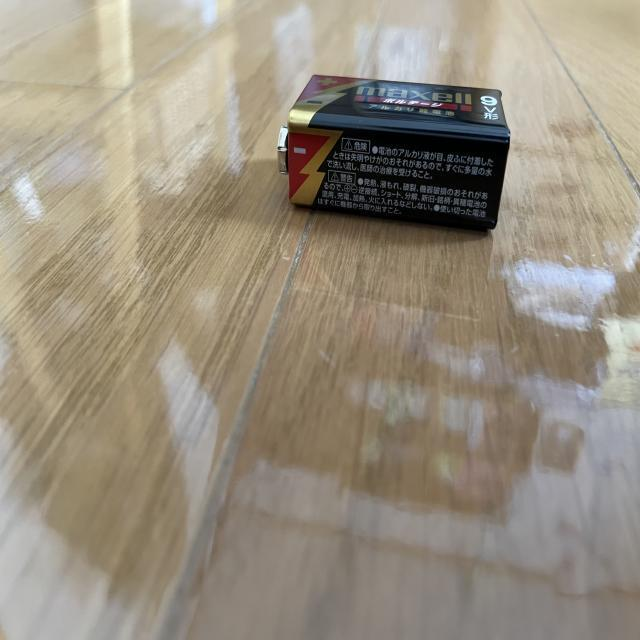9V: (277, 71, 511, 231)
